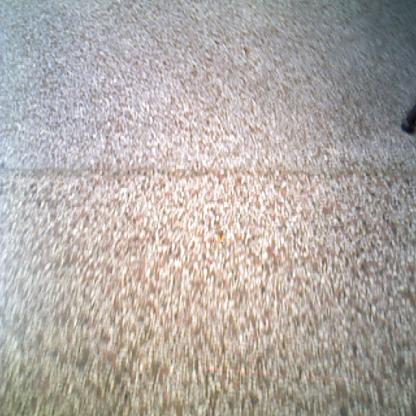dirty: (213, 230, 223, 242)
